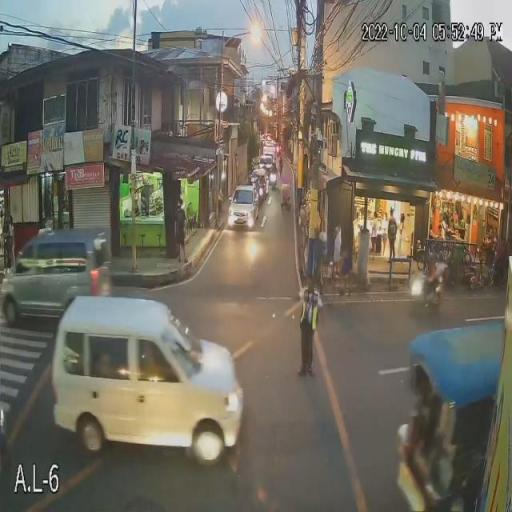helmet: (428, 253, 437, 266), (436, 252, 444, 265)
motorcycle: (398, 271, 452, 318)
rider: (434, 252, 448, 292), (425, 254, 436, 298)
